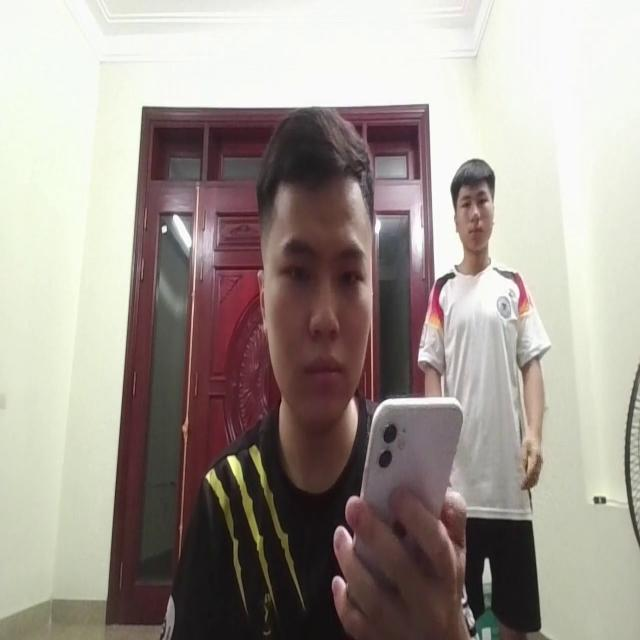extra_person: (424, 138, 549, 635)
phone: (331, 367, 467, 619)
student: (171, 99, 476, 640)
